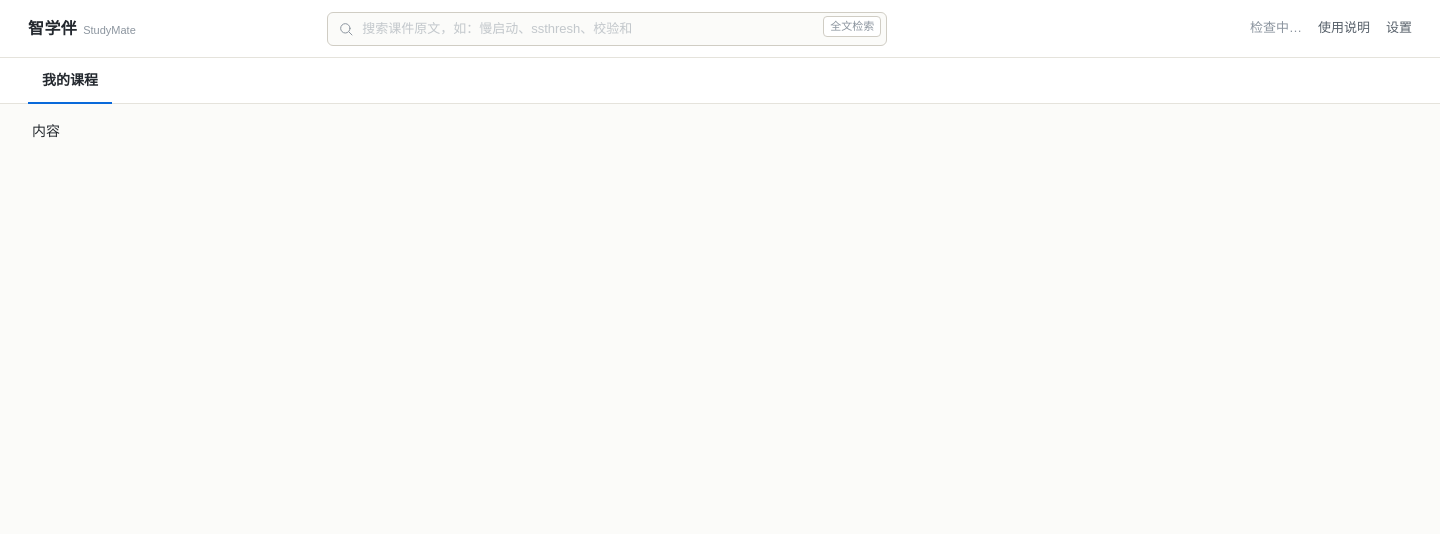
Scenario: 检索截断：命中超过 20 条默认只渲染前 20，点「展开其余」后全量渲染
Step 1. Type "慢启动" into the field labelled "搜索课件原文" → (607,28), box left=327, top=12, right=887, bottom=46
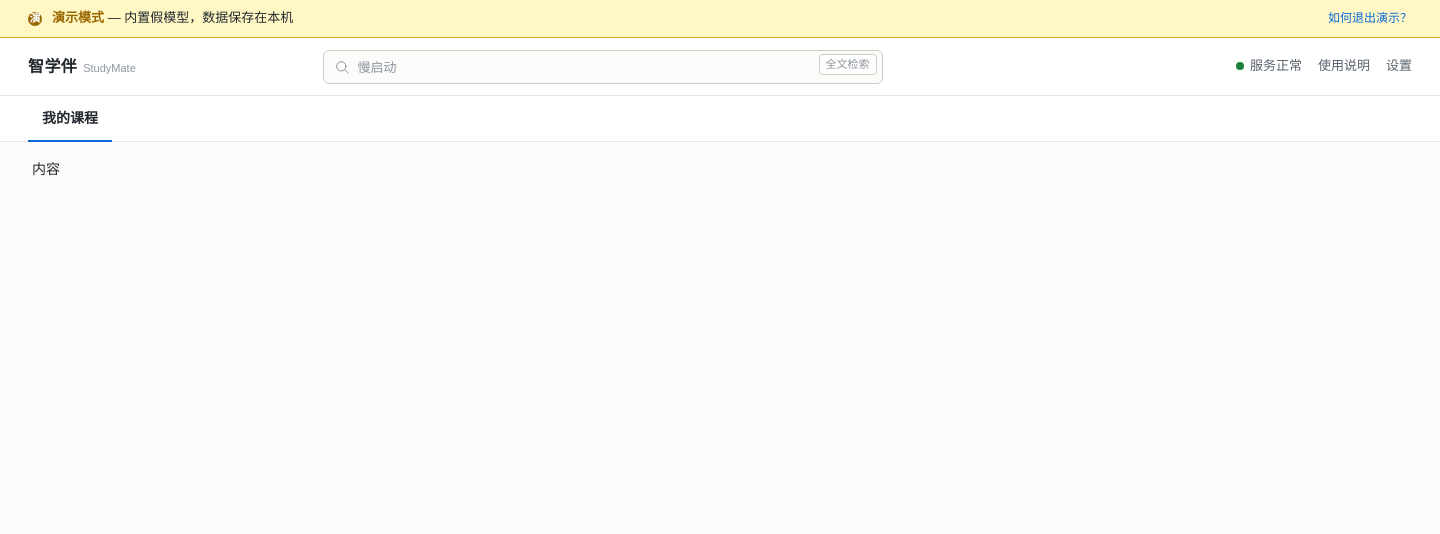
Step 2. Submit the form named "搜索课件原文", box left=322, top=50, right=882, bottom=84
(page scrolled)
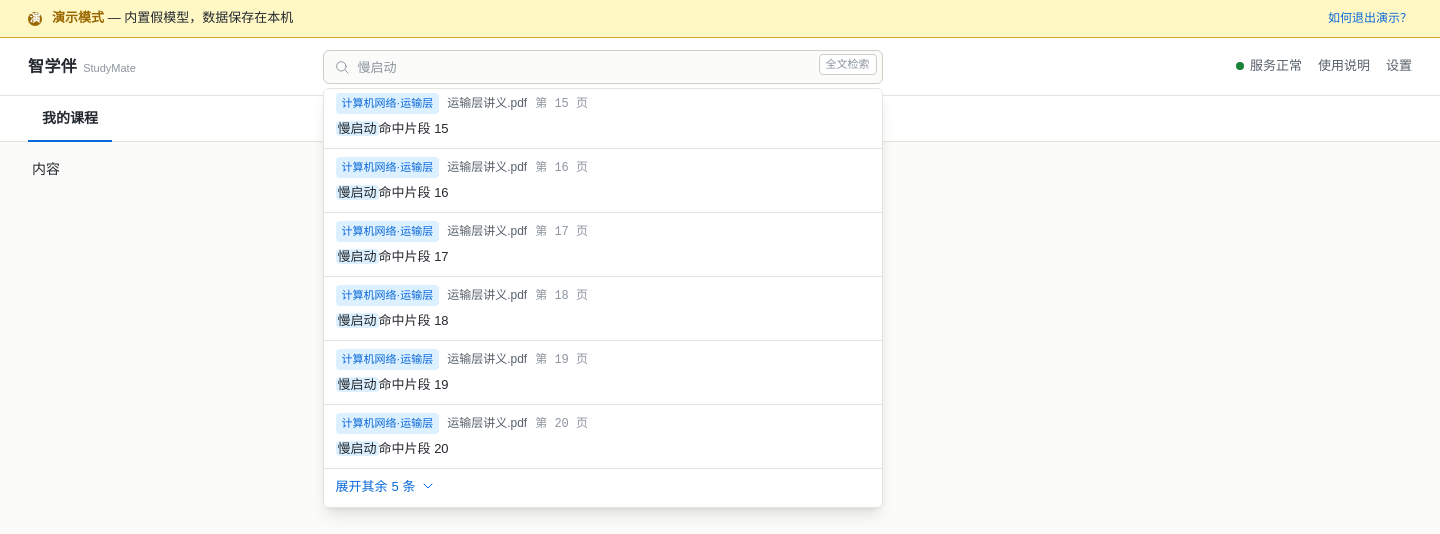
Expected: the text "命中片段 21" is not shown
Expected: the text "慢启动命中片段 20" is shown, left=336, top=442, right=449, bottom=456
Step 3. Click the button "展开其余 5 条" → (363,486), box left=324, top=468, right=882, bottom=507
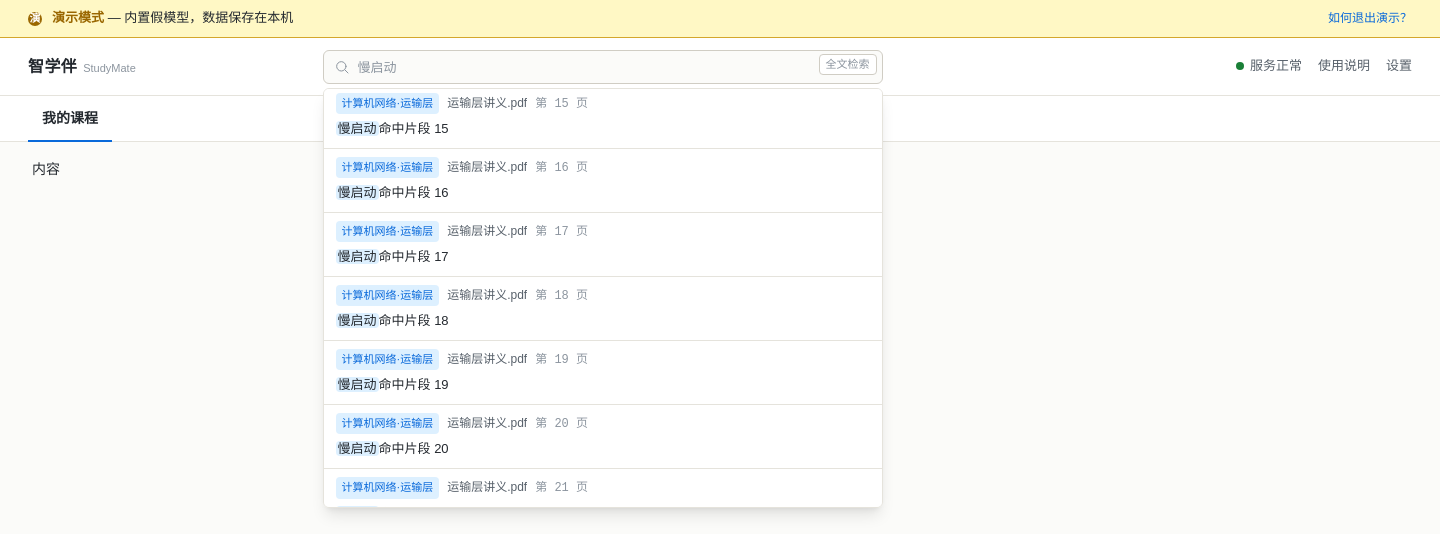
Expected: the button "展开其余" is gone
